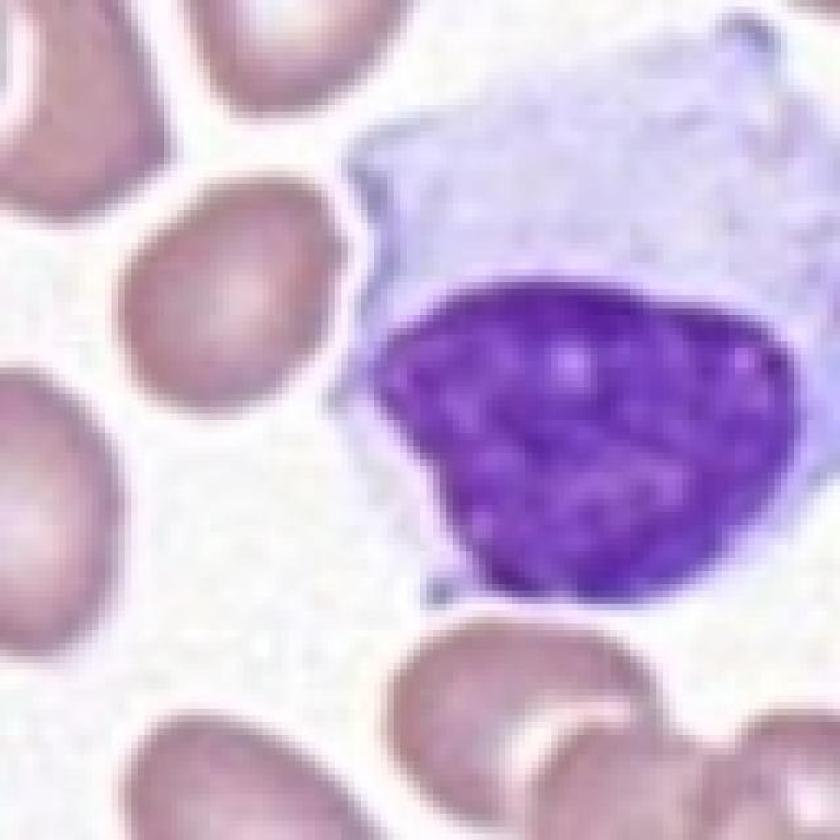lymphocyte: (322, 7, 840, 617)
